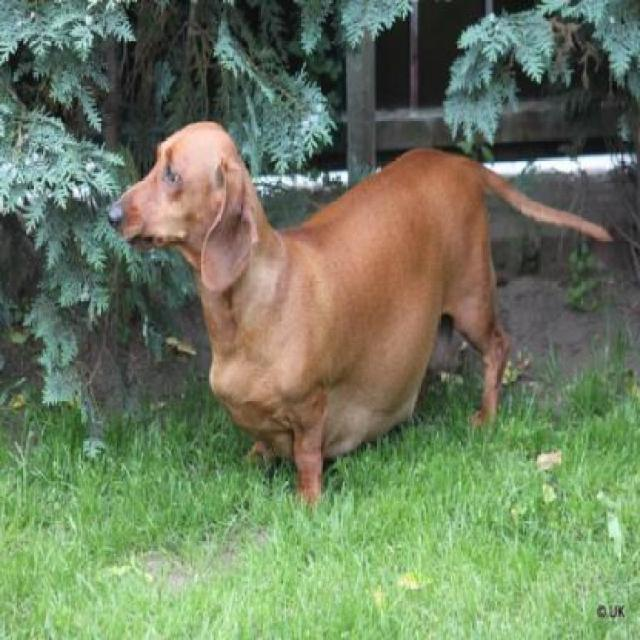Dog: (111, 120, 615, 502)
